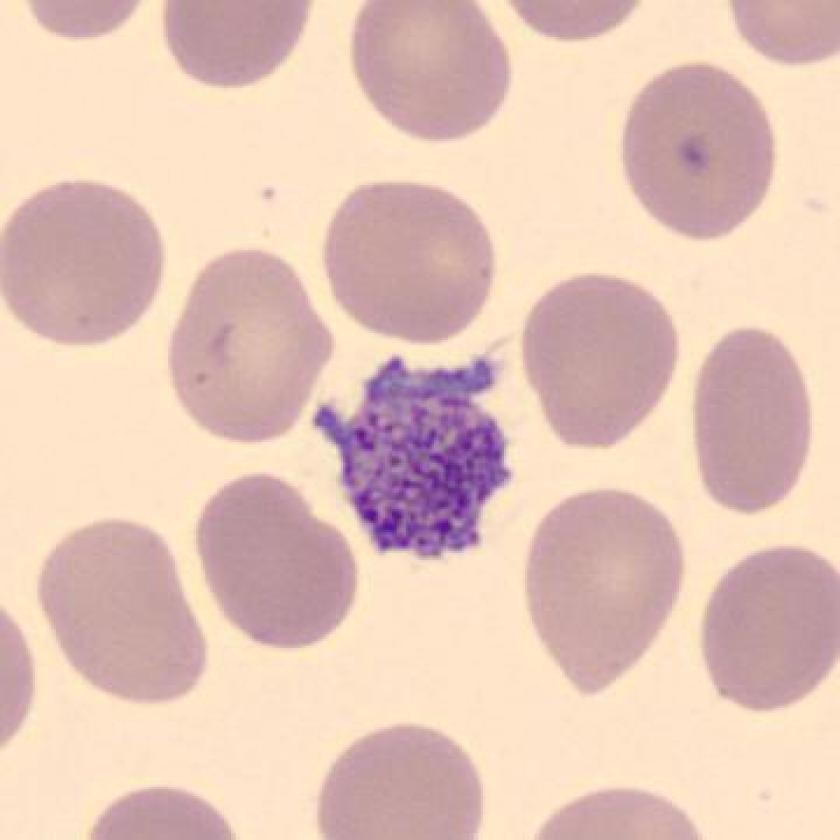platelets: (304, 341, 538, 582)
